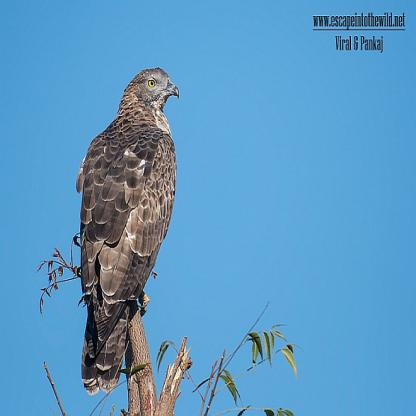Burung: (67, 65, 178, 393)
